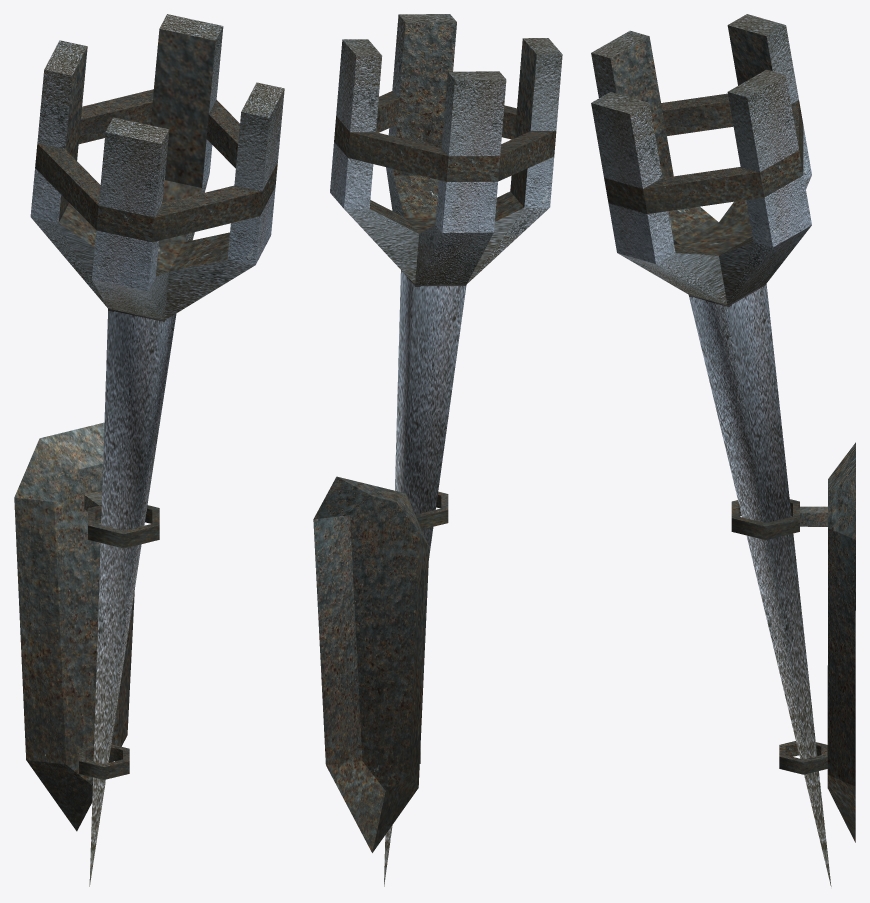
The model's file is Torch_AndMount.FBX.
3 renders of one model, left to right at view 1: azimuth 30°, elevation 25°; view 2: azimuth 150°, elevation 25°; view 3: azimuth 270°, elevation 25°, orthographic. The views are drawn at different scales.
Parts seen in each view (by area): view 1: Box003; view 2: Box003; view 3: Box003.
Part boxes in pixels (x1,y1,x2,y2): Box003: (14, 14, 284, 886); Box003: (313, 14, 562, 886); Box003: (591, 14, 855, 886).
Size of the model in its own units: 17.68 by 82.87 by 23.72.
